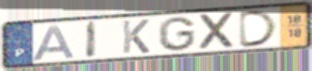A: (30, 23, 77, 62)
D: (238, 9, 281, 50)
G: (156, 15, 197, 53)
I: (85, 20, 99, 60)
K: (120, 18, 151, 55)
X: (198, 11, 237, 52)
